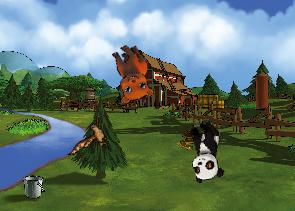bear: (98, 39, 161, 109)
eagle: (67, 110, 116, 166)
panda: (185, 119, 225, 183)
